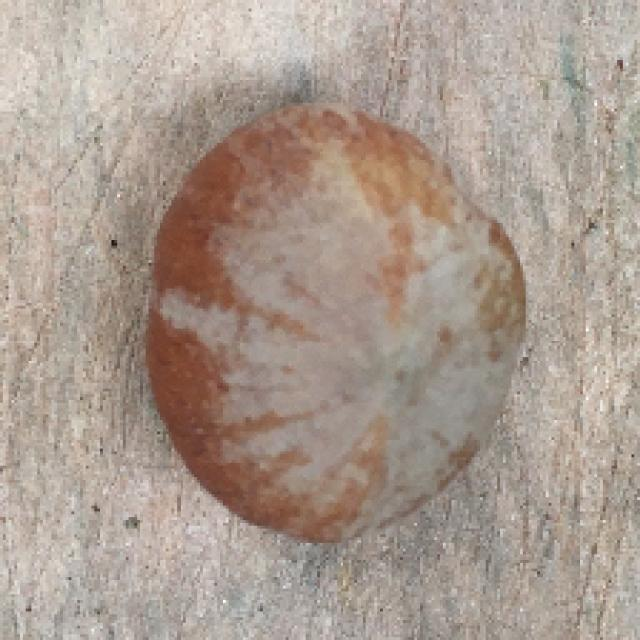qualityHazelnut: (138, 93, 532, 541)
